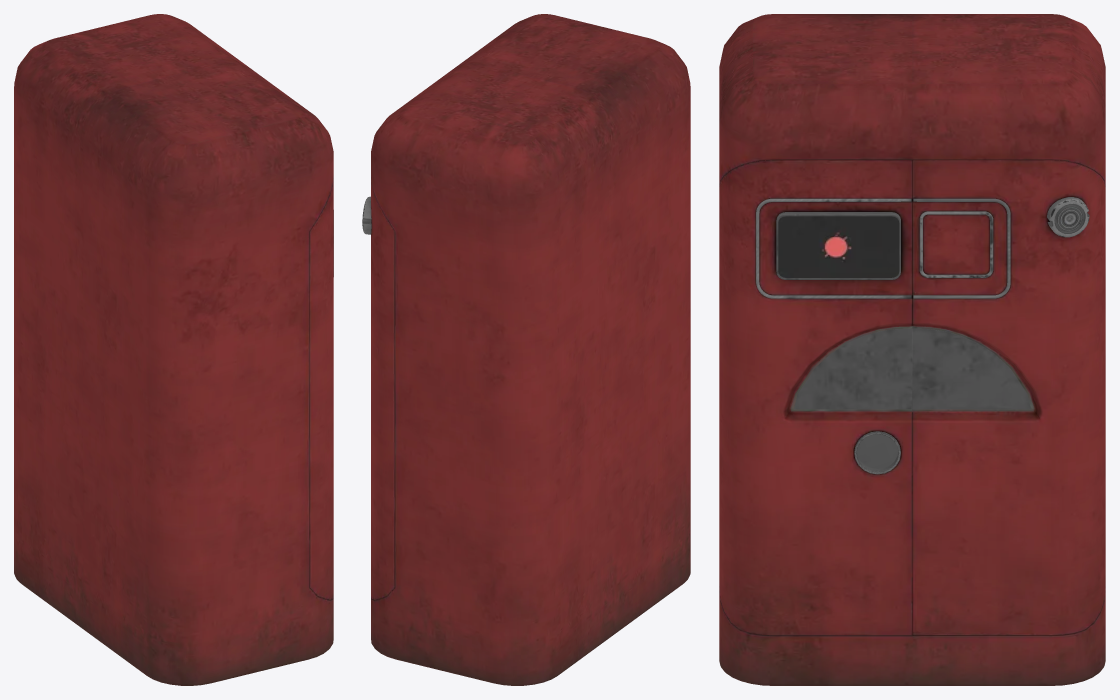
The model's file is fridge_atomic_heart-opt.glb.
3 views of the same model, side by side, from view 1: azimuth 30°, elevation 25°; view 2: azimuth 150°, elevation 25°; view 3: azimuth 270°, elevation 25° (orthographic). The views are drawn at different scales.
Size of the model in its own units: 0.9812 by 2.64 by 1.56.
Materials: 1 (1 with a texture image).
